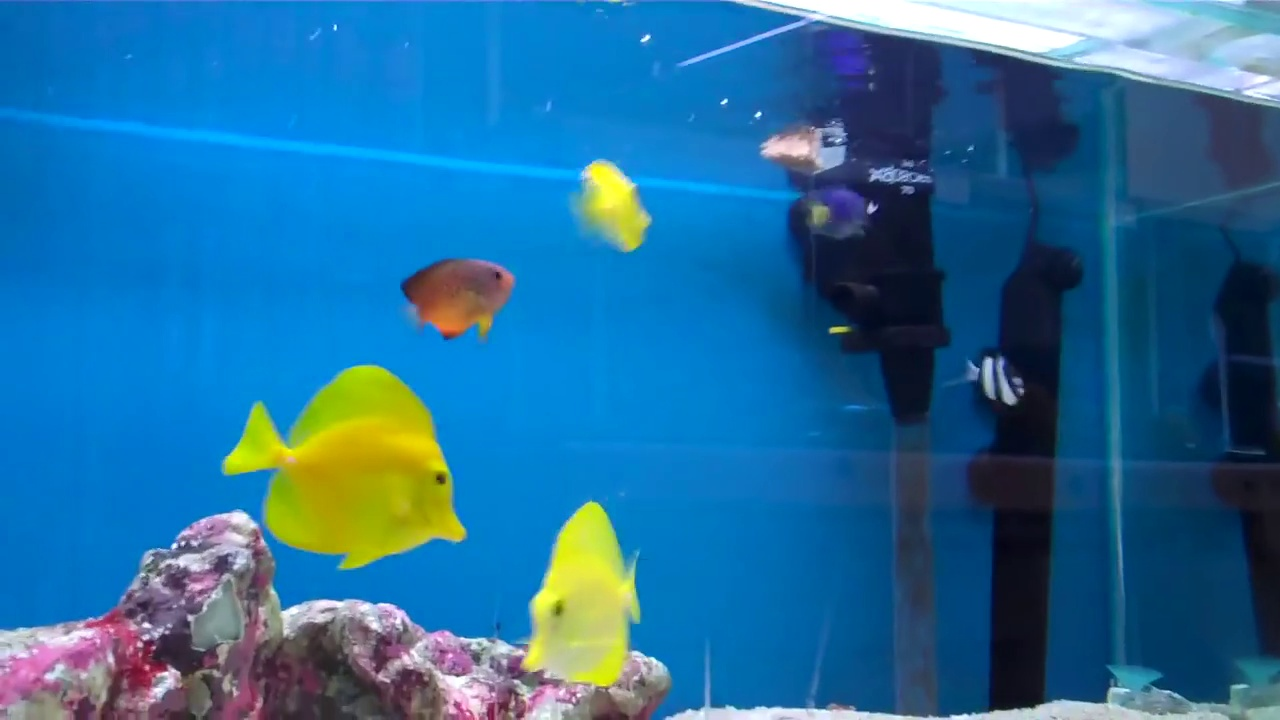saddle butterfly fish: (217, 353, 465, 582), (522, 488, 659, 700)
